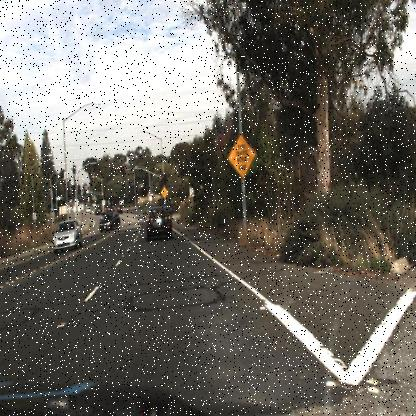car: (49, 210, 83, 256), (52, 218, 82, 254), (146, 202, 174, 238), (97, 210, 125, 234), (99, 209, 121, 232)
trafficLight-Red: (119, 160, 127, 183), (158, 170, 166, 188)
